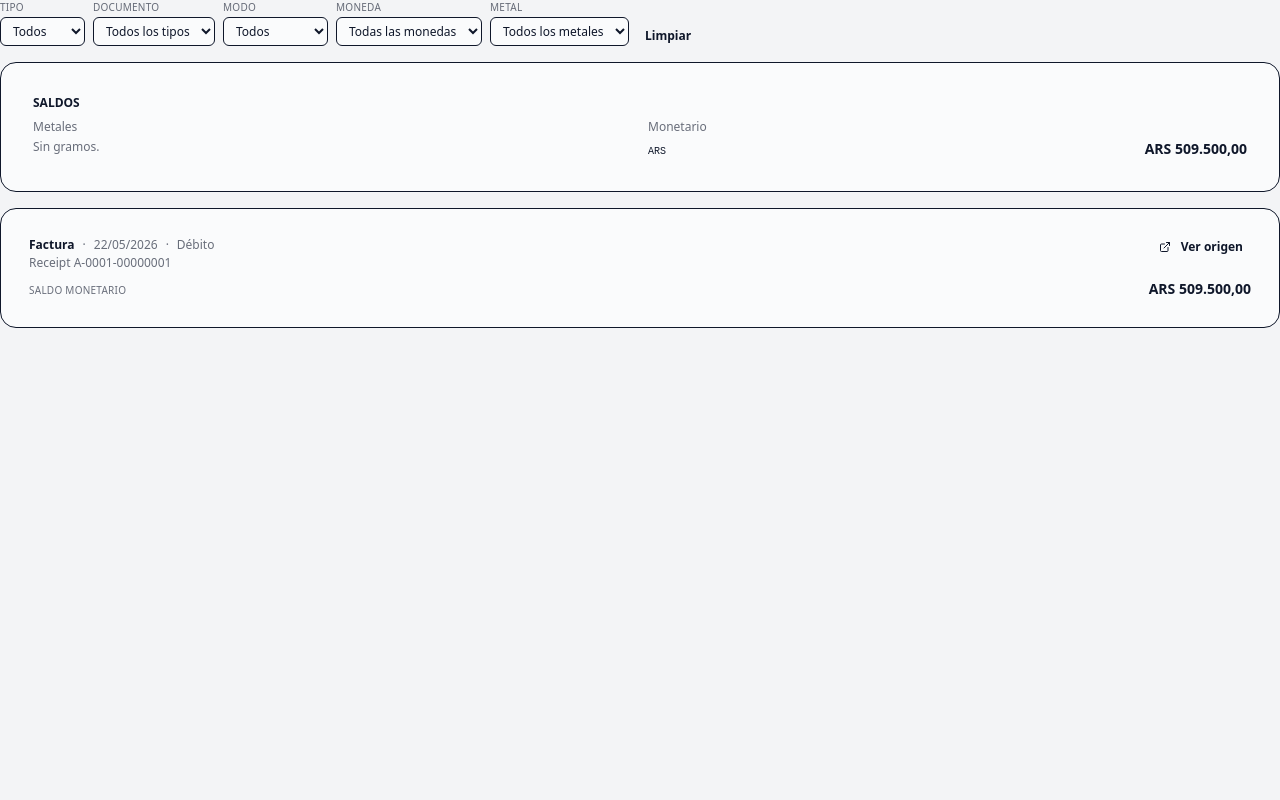
it: EntityBalanceMovementsView — modal Ver origen (Fase 4.4) › modal UNIFIED NO muestra tabla de metales (solo monetary)
Click the button with test id "movement-view-origin-mov-u1" at (1201, 247), box [1151,237,1251,257]
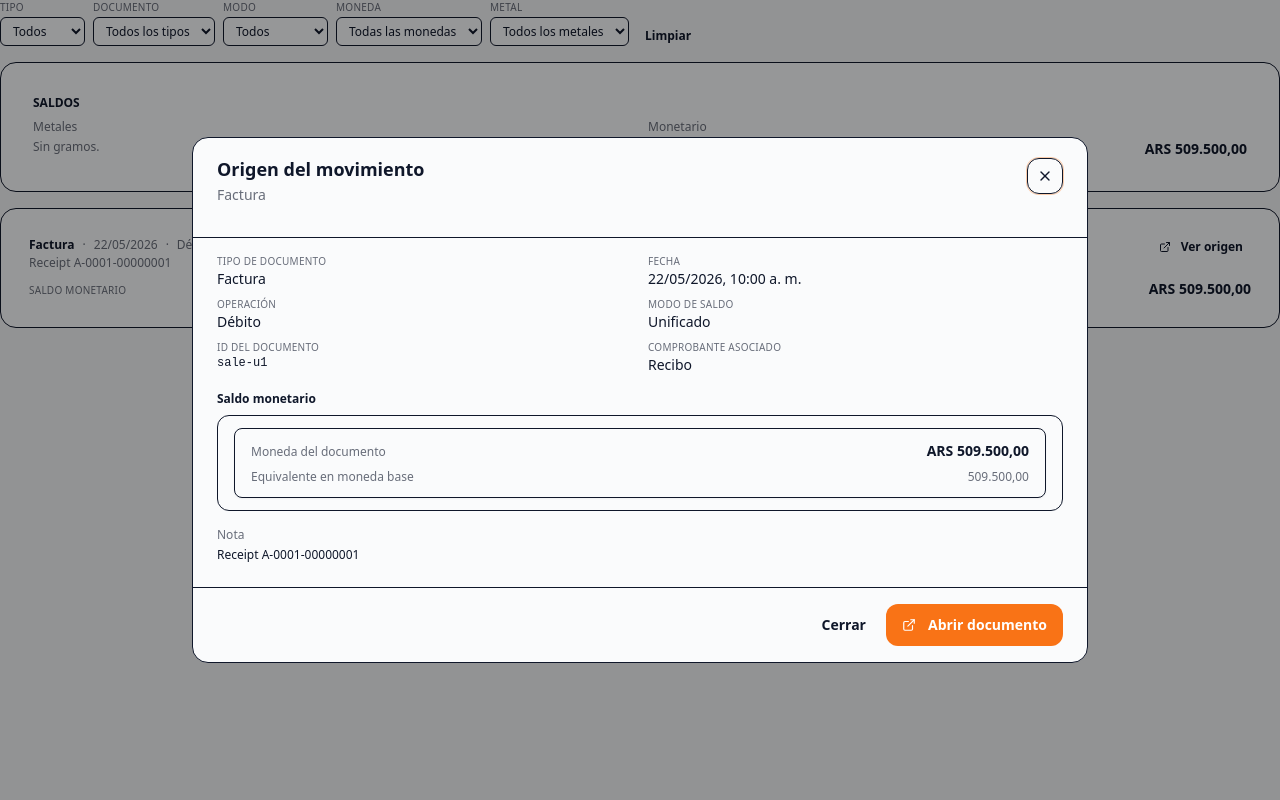
Expected: the element with test id "origin-modal-monetary" is shown, [217,391,1063,511]
